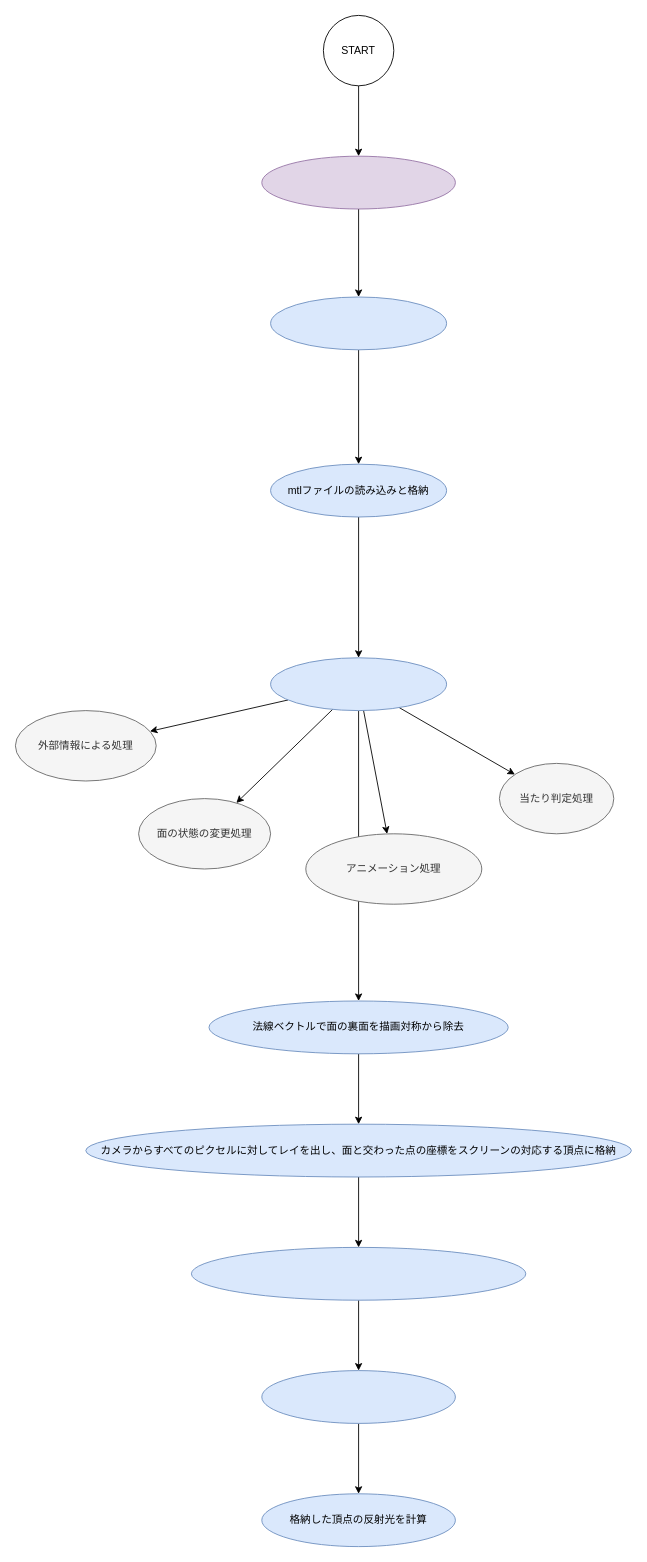
This 647x1562 diagram has some shape labels left out. Each missing label, with the centre of its shape:
objファイルの読み込みと格納: [358,323]
その頂点のUV座標とマテリアル情報からテクスチャから色を取得: [358,1273]
格納した頂点の環境光を計算: [358,1396]
画像データの読み込みと格納: [358,182]
３Dデータに対する処理を行う: [358,684]
